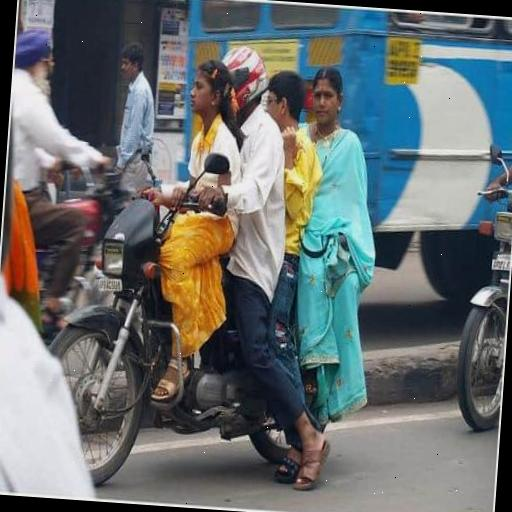helmet: (214, 34, 281, 150)
triple riding: (144, 9, 402, 341)
